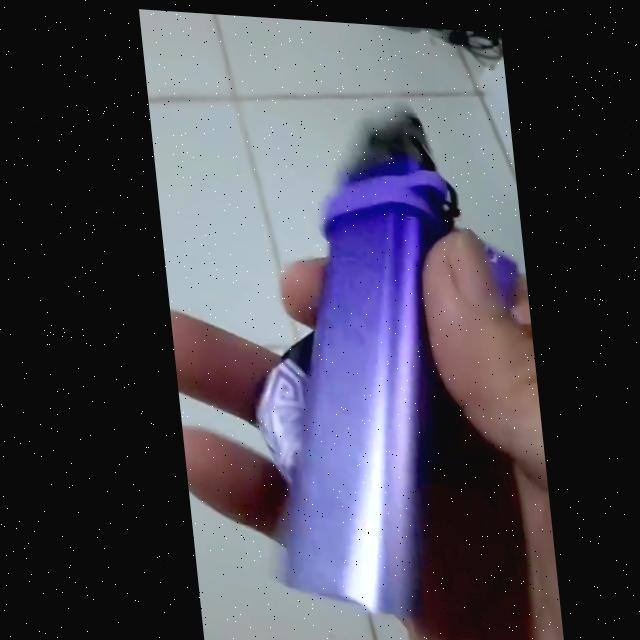vape: (224, 95, 507, 623)
